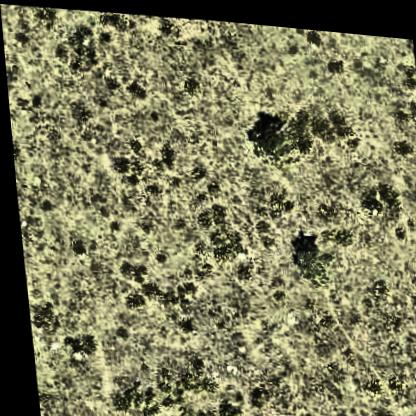tree-top: (245, 113, 305, 160), (284, 224, 324, 280)
